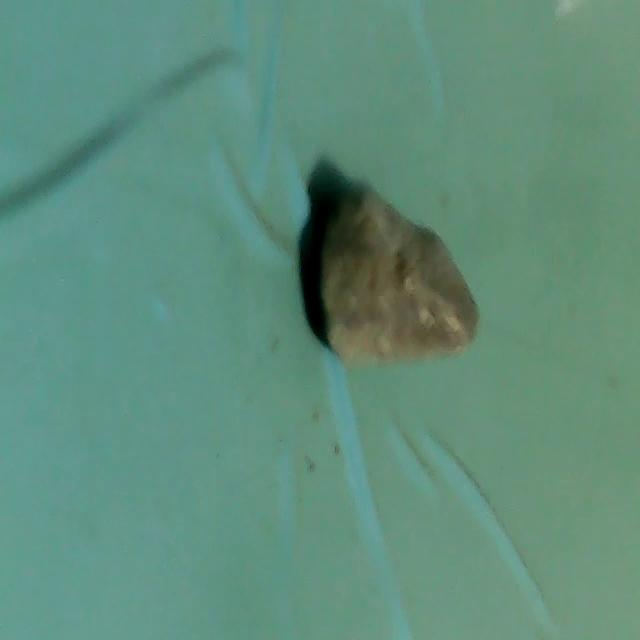rock: (294, 172, 490, 390)
